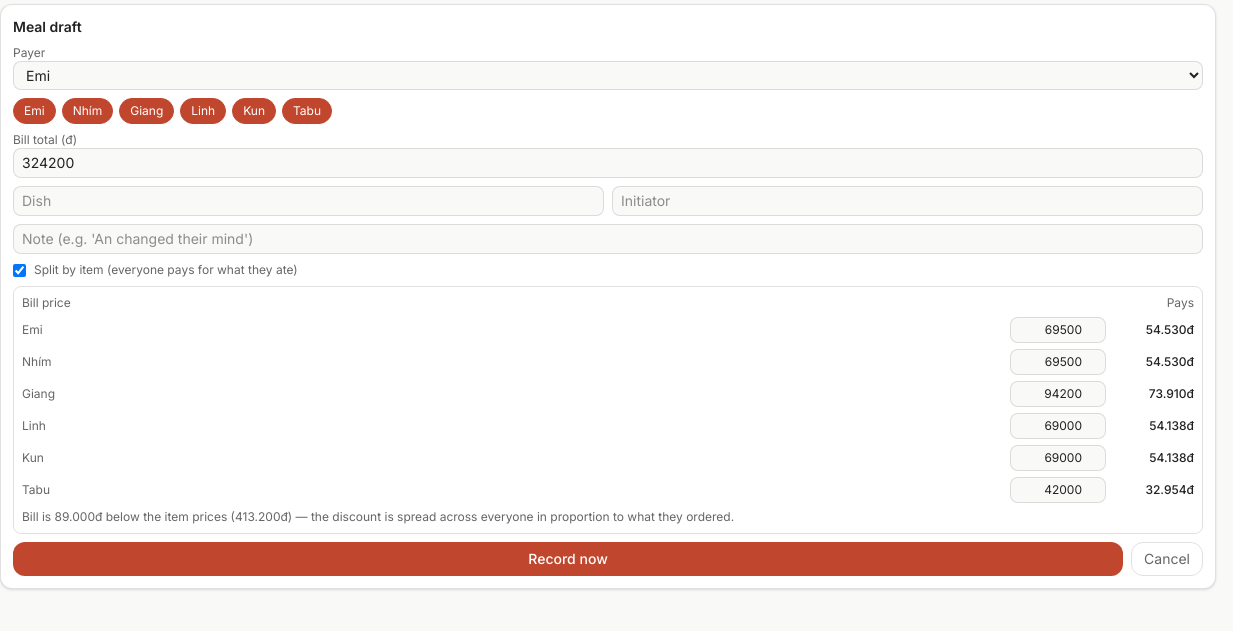
Test case: Record now flushes pending edits first › does not commit when the flush is rejected
This screenshot has width=1233, height=631.
Replace the text in the number field named "Item price for Emi" with "5" at x=1058, y=330, box [1010,317,1106,343]
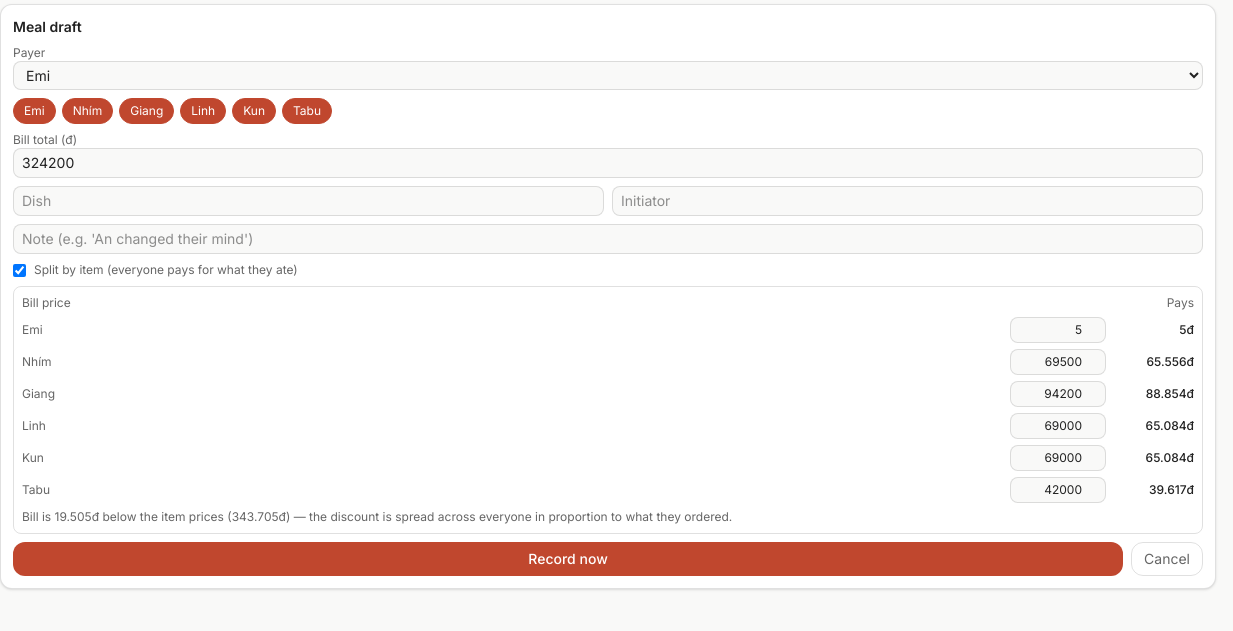
Click the button "Record now" at x=568, y=559, box [13,542,1123,576]
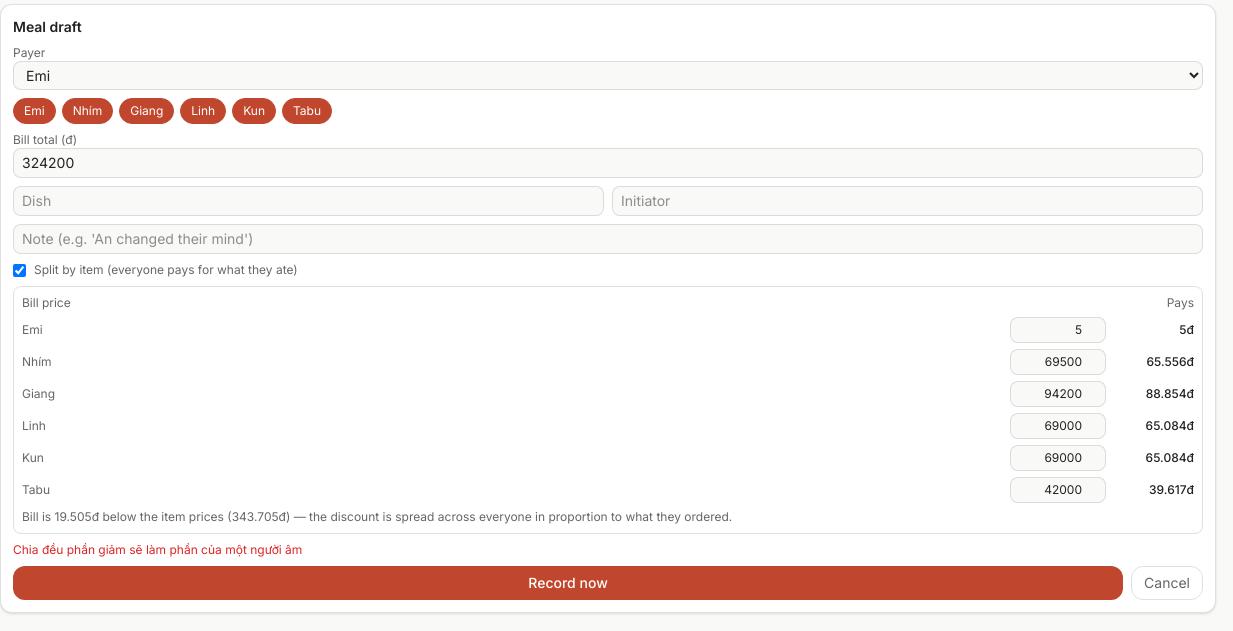
Expected: the text "Chia đều phần giảm sẽ làm phần của một người âm" is shown, [13,542,302,557]
